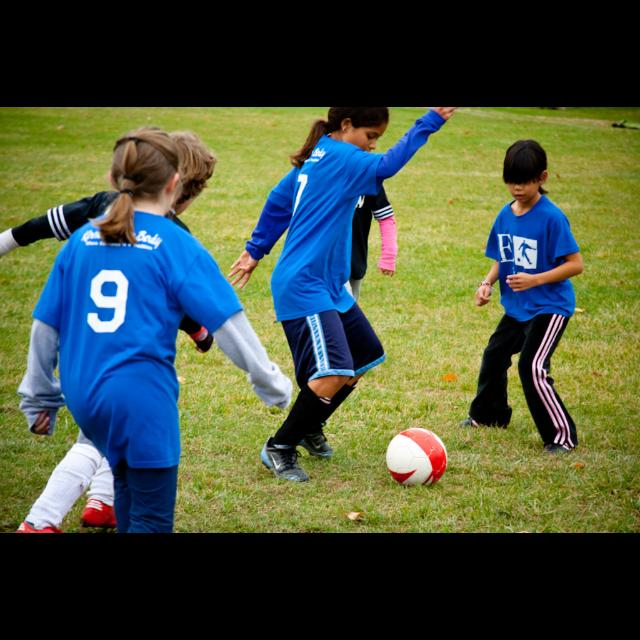Football: (381, 426, 444, 484)
